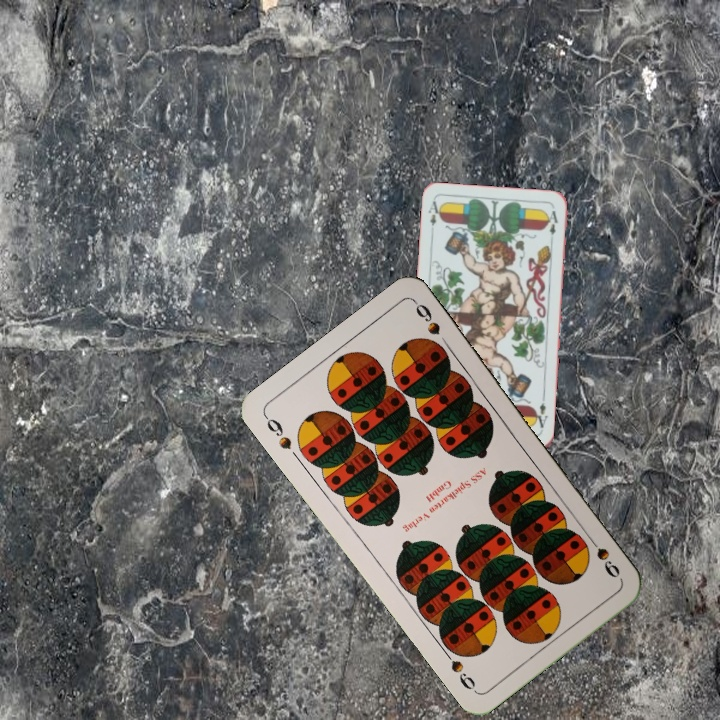EA: (424, 197, 444, 237), (530, 399, 551, 434)
S9: (582, 530, 623, 581), (260, 411, 295, 453)
